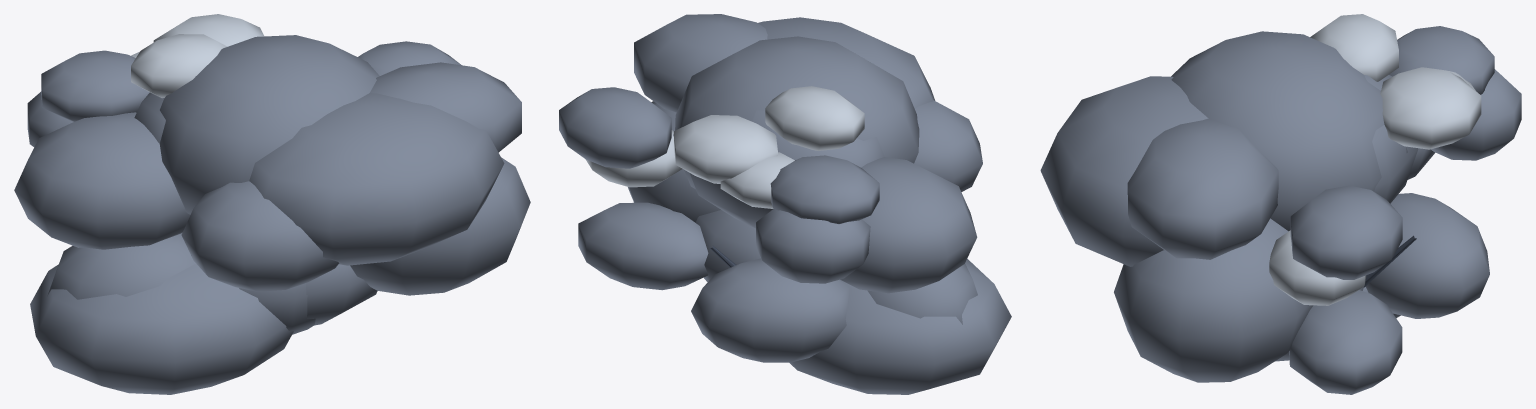
File: 低矮圆灌木.glb
3 renders of one model, left to right at view 1: azimuth 30°, elevation 25°; view 2: azimuth 150°, elevation 25°; view 3: azimuth 270°, elevation 25°, orthographic. The views are drawn at different scales.
Visible parts, largest first — view 1: garden-shrub-low-leaf, garden-shrub-low-light; view 2: garden-shrub-low-leaf, garden-shrub-low-light; view 3: garden-shrub-low-leaf, garden-shrub-low-light.
Part boxes in pixels (bbox=[...]): garden-shrub-low-leaf: bbox=[14, 35, 530, 394]; garden-shrub-low-light: bbox=[131, 14, 264, 98]; garden-shrub-low-leaf: bbox=[559, 14, 1011, 394]; garden-shrub-low-light: bbox=[585, 86, 864, 208]; garden-shrub-low-leaf: bbox=[1040, 26, 1521, 394]; garden-shrub-low-light: bbox=[1269, 14, 1481, 305].
Bounding box in the file's own units: 0.95 × 0.65 × 0.85.
